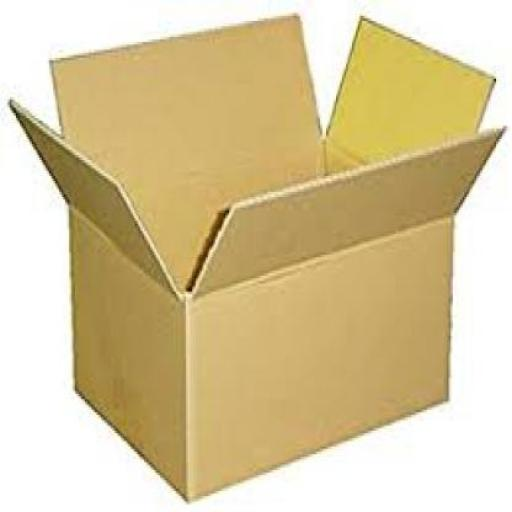cardboard: (6, 10, 504, 502)
